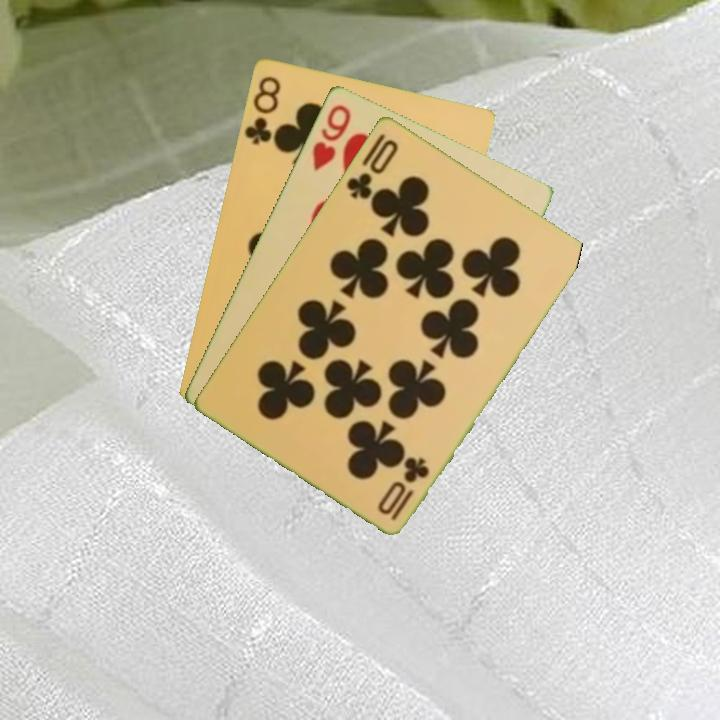10c: (342, 134, 401, 202), (387, 452, 433, 523)
8c: (240, 72, 283, 147)
9h: (308, 100, 354, 173)
